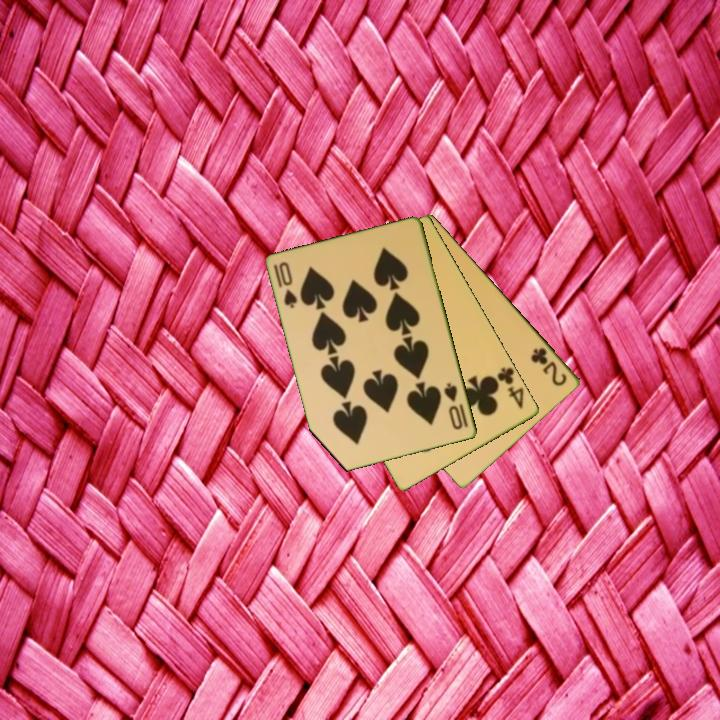10s: (270, 258, 300, 311), (441, 379, 466, 433)
2c: (528, 344, 570, 389)
4c: (494, 364, 527, 412)
